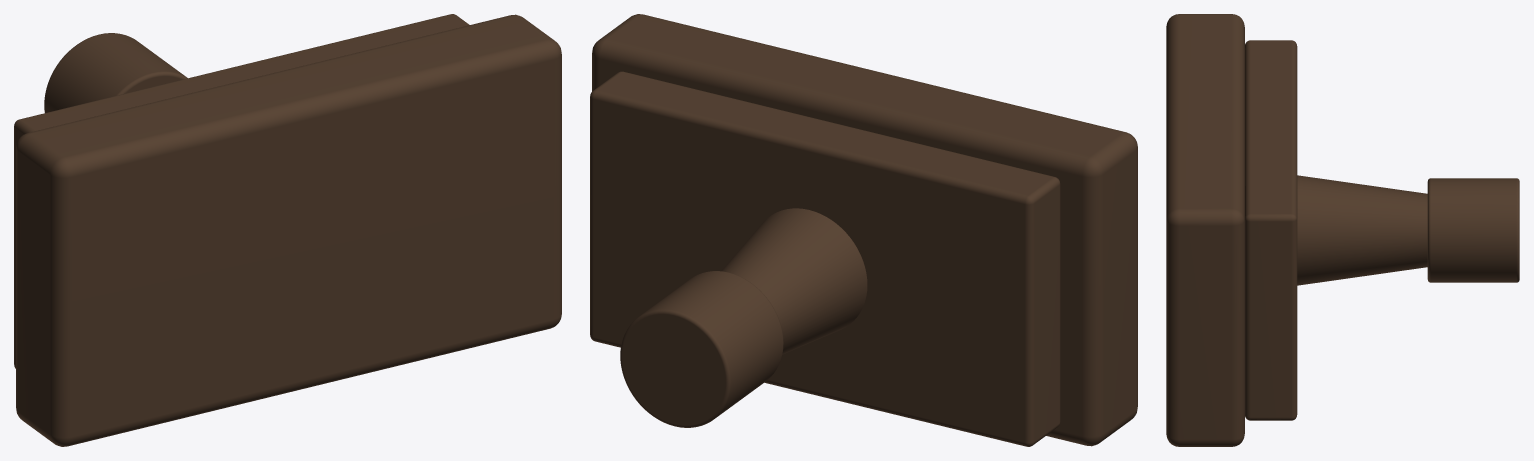
Rendered from eurofit-k-323orb.glb.
3 renders of one model, left to right at view 1: azimuth 30°, elevation 25°; view 2: azimuth 150°, elevation 25°; view 3: azimuth 270°, elevation 25°, orthographic. The views are drawn at different scales.
Visible parts, largest first — view 1: Knob cap, Cap lower step, Knob mounting foot; view 2: Cap lower step, Knob cap, Knob mounting foot, Knob stem; view 3: Knob cap, Cap lower step, Knob stem, Knob mounting foot.
Part boxes in pixels (box(x1,y1,x2,y2)): Knob cap: box(16, 14, 561, 446); Cap lower step: box(14, 14, 469, 368); Knob mounting foot: box(44, 33, 187, 112); Cap lower step: box(590, 71, 1060, 446); Knob cap: box(592, 14, 1137, 446); Knob mounting foot: box(620, 271, 783, 427); Knob stem: box(721, 208, 867, 354); Knob cap: box(1166, 14, 1244, 446); Cap lower step: box(1245, 40, 1297, 420); Knob stem: box(1297, 175, 1427, 285); Knob mounting foot: box(1427, 178, 1519, 282).
Bounding box in the file's own units: 0.037 × 0.02 × 0.027.
